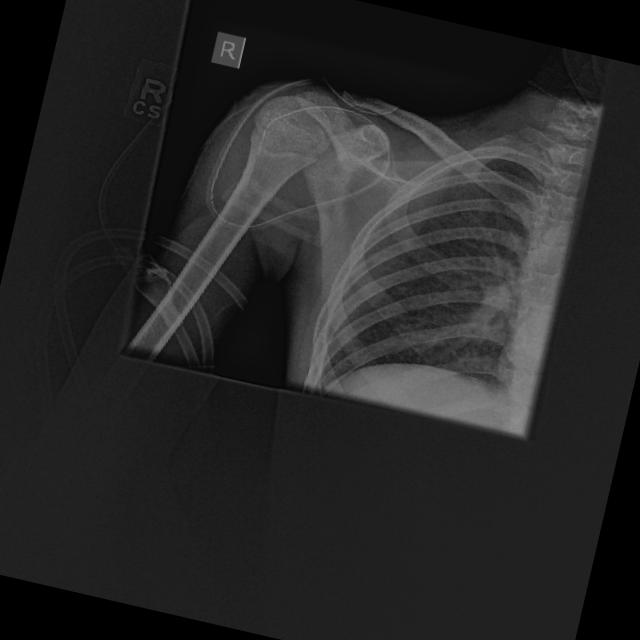shoulder fracture: (226, 120, 336, 208)
